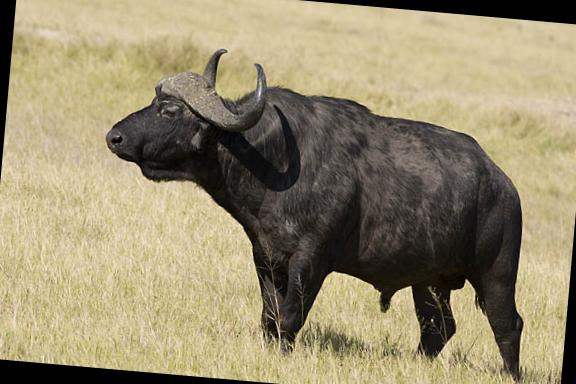Buffalo: (79, 48, 524, 359)
